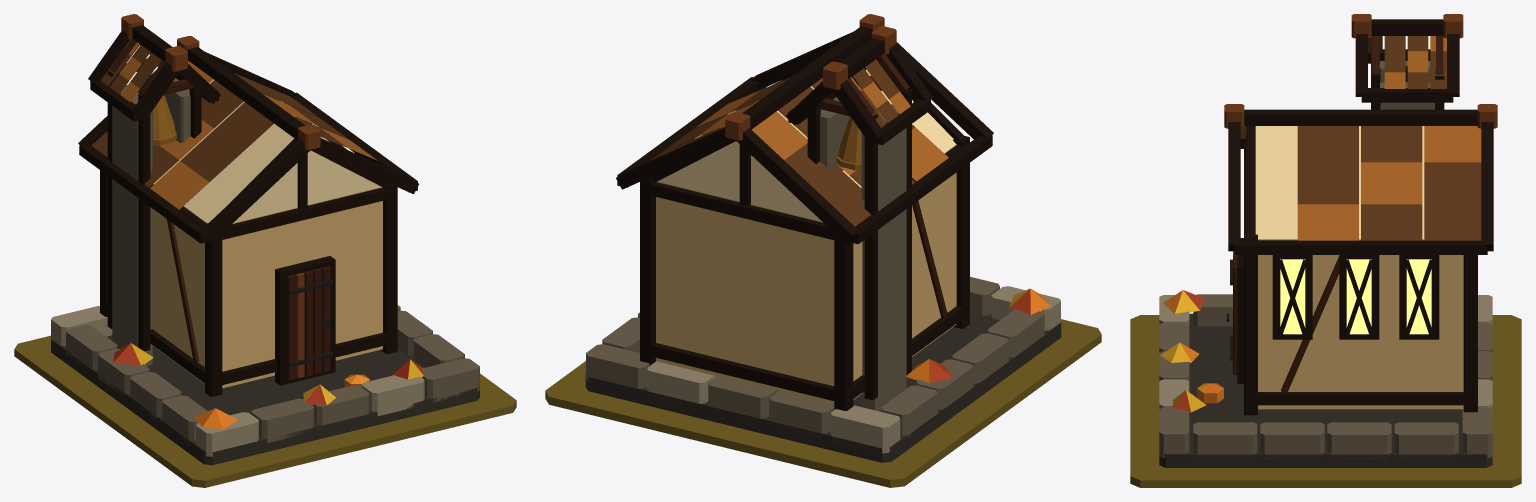
File: chapel_t1.glb
3 renders of one model, left to right at view 1: azimuth 30°, elevation 25°; view 2: azimuth 150°, elevation 25°; view 3: azimuth 270°, elevation 25°, orthographic. The views are drawn at different scales.
Parts seen in each view (by area): view 1: MMR | chapel | T01 Architecture.001, MMR | chapel | Tier 01 Ground.001, MMR | chapel | T01 Autumn Dressing.001; view 2: MMR | chapel | T01 Architecture.001, MMR | chapel | Tier 01 Ground.001, MMR | chapel | T01 Autumn Dressing.001; view 3: MMR | chapel | T01 Architecture.001, MMR | chapel | Tier 01 Ground.001, MMR | chapel | T01 Autumn Dressing.001.
Boxes of the visible parts, bbox=[...] form: MMR | chapel | T01 Architecture.001: bbox=[51, 14, 479, 465]; MMR | chapel | Tier 01 Ground.001: bbox=[14, 335, 516, 487]; MMR | chapel | T01 Autumn Dressing.001: bbox=[113, 343, 423, 429]; MMR | chapel | T01 Architecture.001: bbox=[585, 14, 1061, 462]; MMR | chapel | Tier 01 Ground.001: bbox=[545, 319, 1101, 487]; MMR | chapel | T01 Autumn Dressing.001: bbox=[906, 288, 1050, 382]; MMR | chapel | T01 Architecture.001: bbox=[1159, 14, 1497, 467]; MMR | chapel | Tier 01 Ground.001: bbox=[1130, 315, 1521, 487]; MMR | chapel | T01 Autumn Dressing.001: bbox=[1160, 290, 1223, 412].
Size of the model in its own units: 2.35 by 2.33 by 2.35.
Materials: 2 (1 with a texture image).
